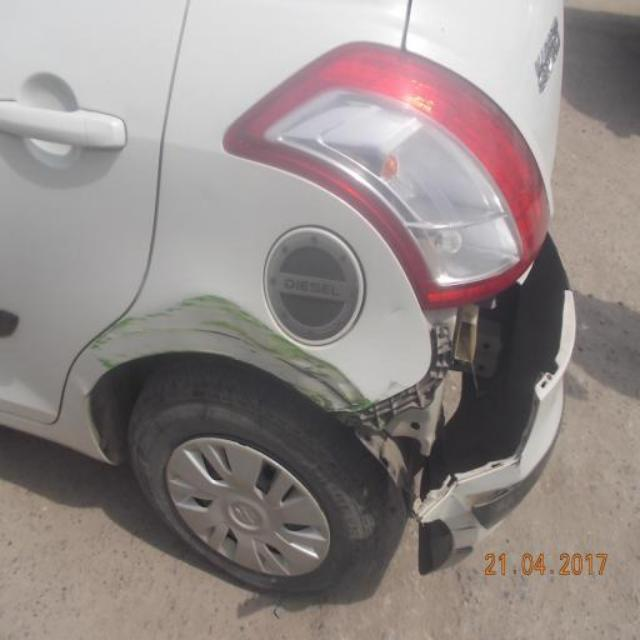dislocated part: (341, 231, 576, 521)
rub: (88, 297, 381, 420)
